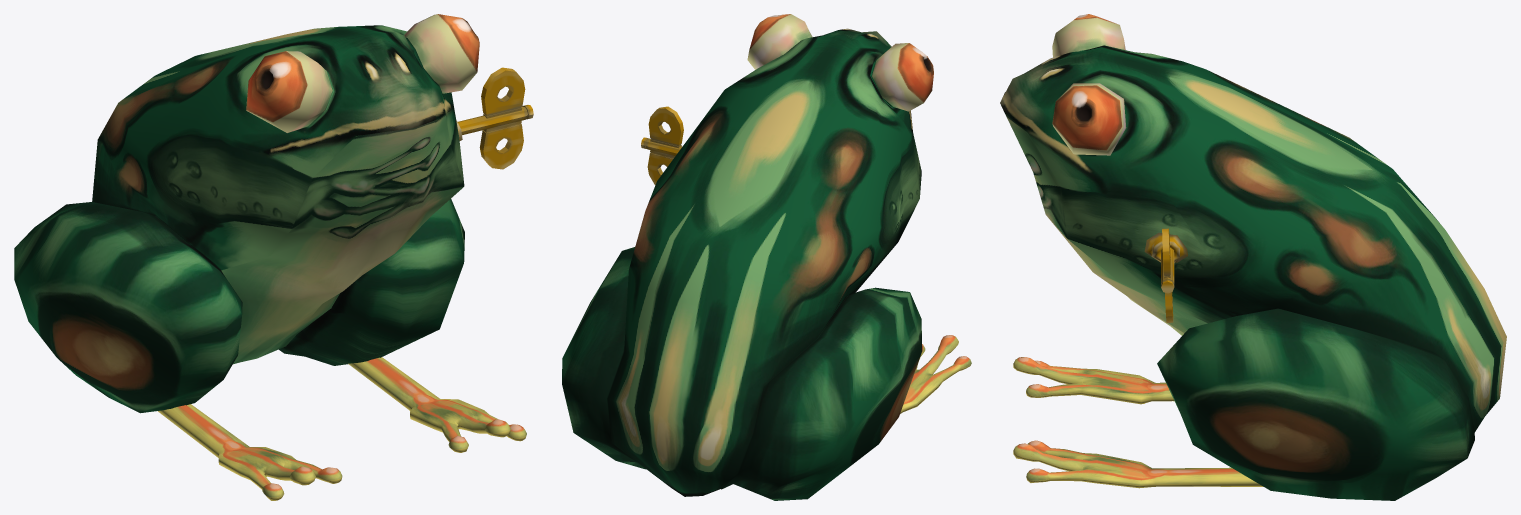
The model's file is frog_w_tex.fbx.
3 renders of one model, left to right at view 1: azimuth 30°, elevation 25°; view 2: azimuth 150°, elevation 25°; view 3: azimuth 270°, elevation 25°, orthographic. The views are drawn at different scales.
Visible parts, largest first — view 1: frog_GEO, key_GEO; view 2: frog_GEO, key_GEO; view 3: frog_GEO, key_GEO.
Boxes of the visible parts, x1,y1,x2,y2 form: frog_GEO: (14, 14, 526, 500); key_GEO: (458, 67, 533, 169); frog_GEO: (562, 14, 971, 500); key_GEO: (641, 106, 683, 185); frog_GEO: (1000, 14, 1506, 500); key_GEO: (1161, 228, 1174, 322).
Size of the model in its own units: 3.49 by 3.69 by 4.17.
Materials: 1 (1 with a texture image).
